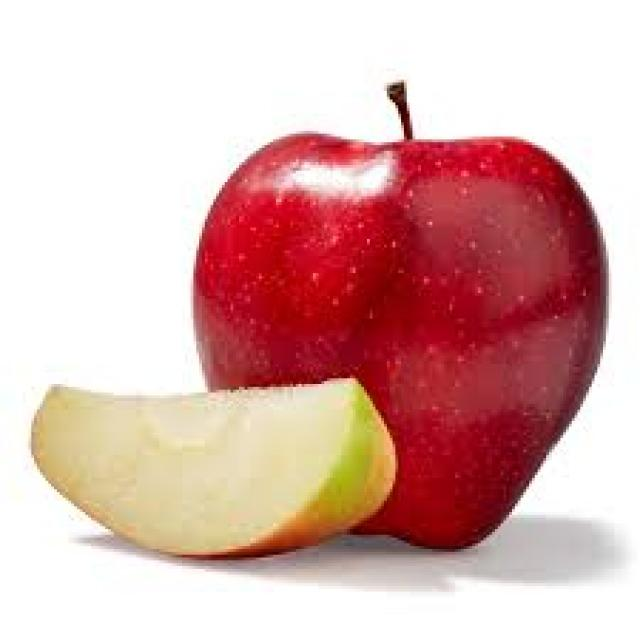Apple: (196, 99, 624, 543), (35, 373, 397, 563)
